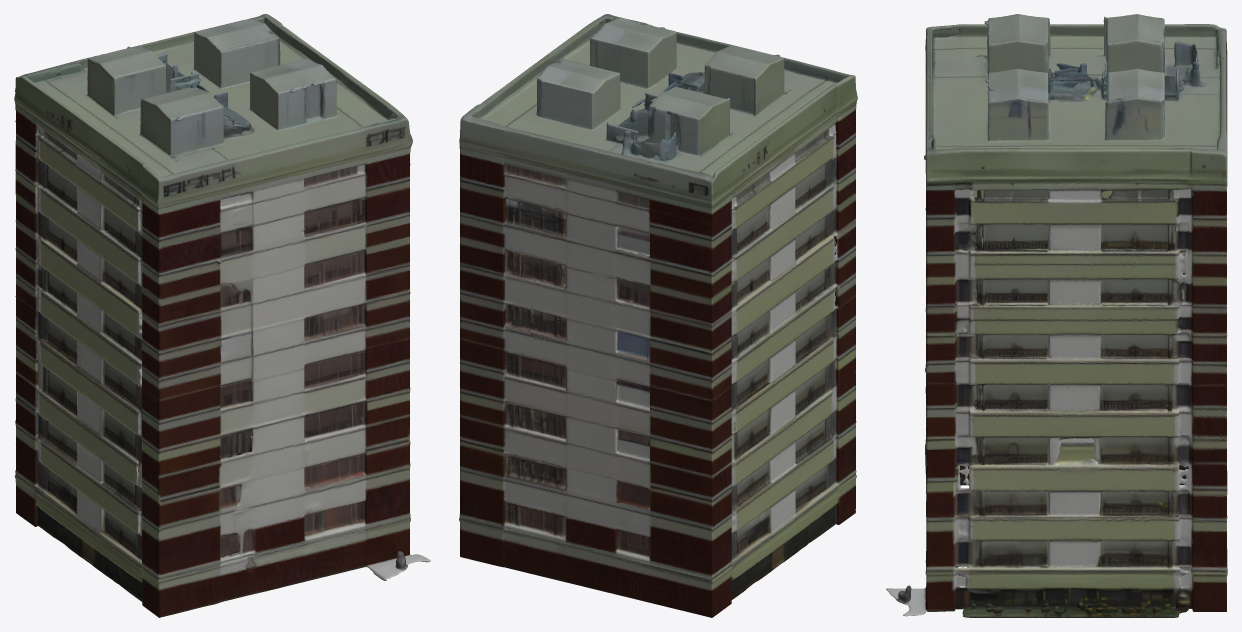
Rendered from apartment-building-original.glb.
The picture shows the model from 3 angles, left to right: view 1: azimuth 30°, elevation 25°; view 2: azimuth 150°, elevation 25°; view 3: azimuth 270°, elevation 25°; orthographic projection. The views are drawn at different scales.
Visible parts, largest first — view 1: tripo_node_2fe8b6a4-bce4-4143-af1d-268e871e414c; view 2: tripo_node_2fe8b6a4-bce4-4143-af1d-268e871e414c; view 3: tripo_node_2fe8b6a4-bce4-4143-af1d-268e871e414c.
Boxes of the visible parts, box(x1,y1,x2,y2) form: tripo_node_2fe8b6a4-bce4-4143-af1d-268e871e414c: box(14, 14, 430, 617); tripo_node_2fe8b6a4-bce4-4143-af1d-268e871e414c: box(459, 14, 857, 617); tripo_node_2fe8b6a4-bce4-4143-af1d-268e871e414c: box(886, 14, 1227, 617).
Bounding box in the file's own units: 0.59 × 1 × 0.6285.
Materials: 1 (1 with a texture image).
